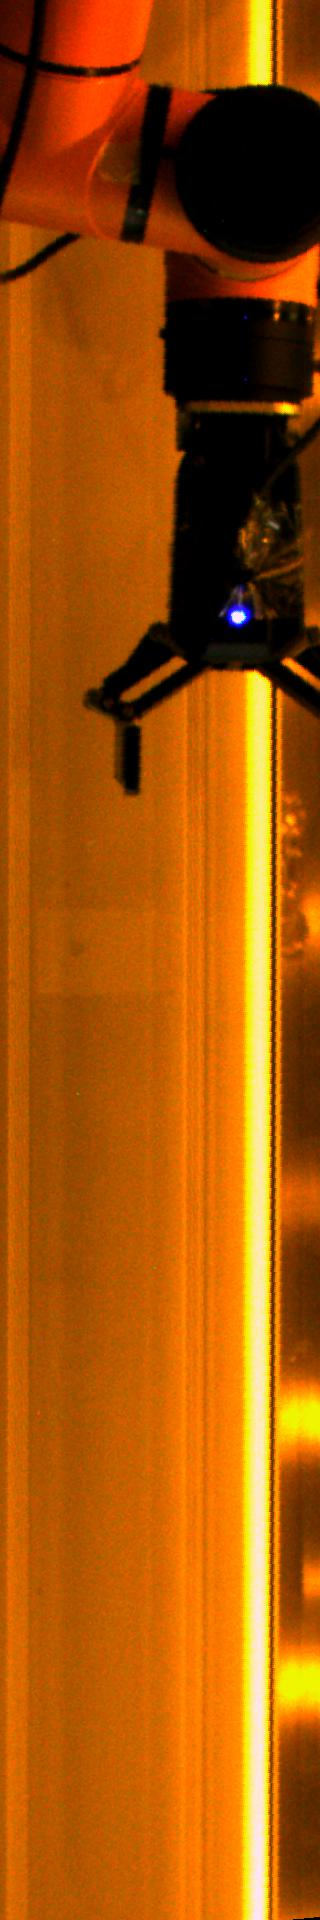keyPoint_1: (224, 602, 254, 632)
